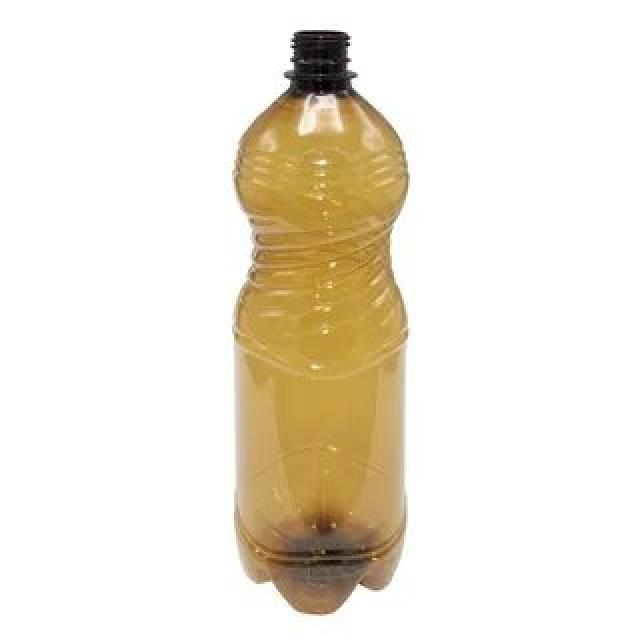brown: (232, 33, 410, 617)
